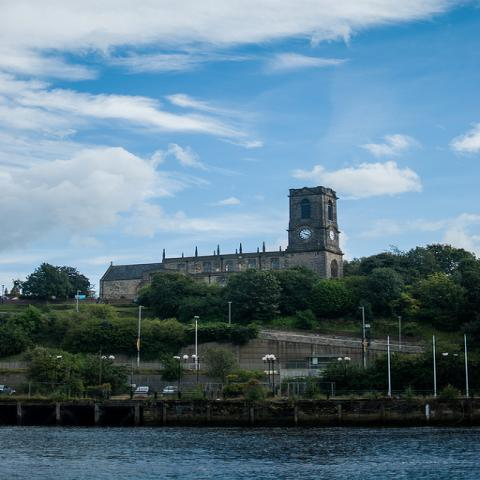car: (0, 386, 16, 396), (163, 386, 178, 396), (135, 386, 153, 393)
